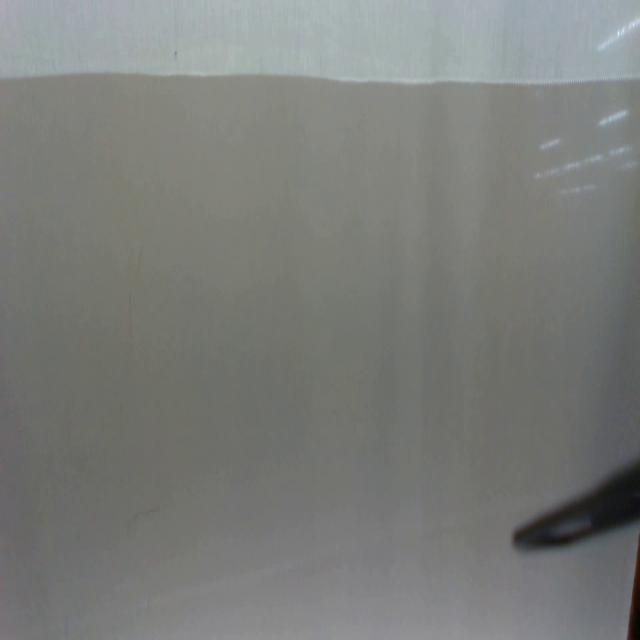hole: (172, 47, 178, 61)
